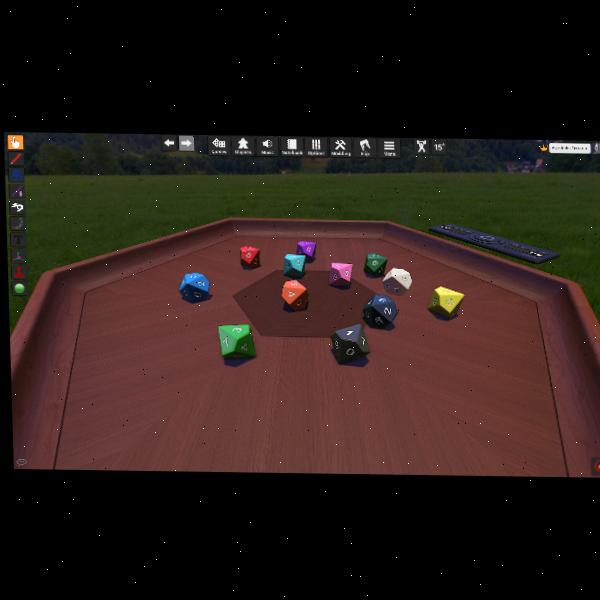d10: (329, 324, 369, 364), (218, 324, 256, 359), (426, 285, 463, 318), (362, 294, 397, 327), (178, 272, 210, 302), (382, 267, 412, 295), (281, 279, 308, 309), (364, 252, 388, 277), (283, 254, 306, 277), (329, 262, 351, 286), (240, 245, 261, 266), (296, 240, 315, 259)
